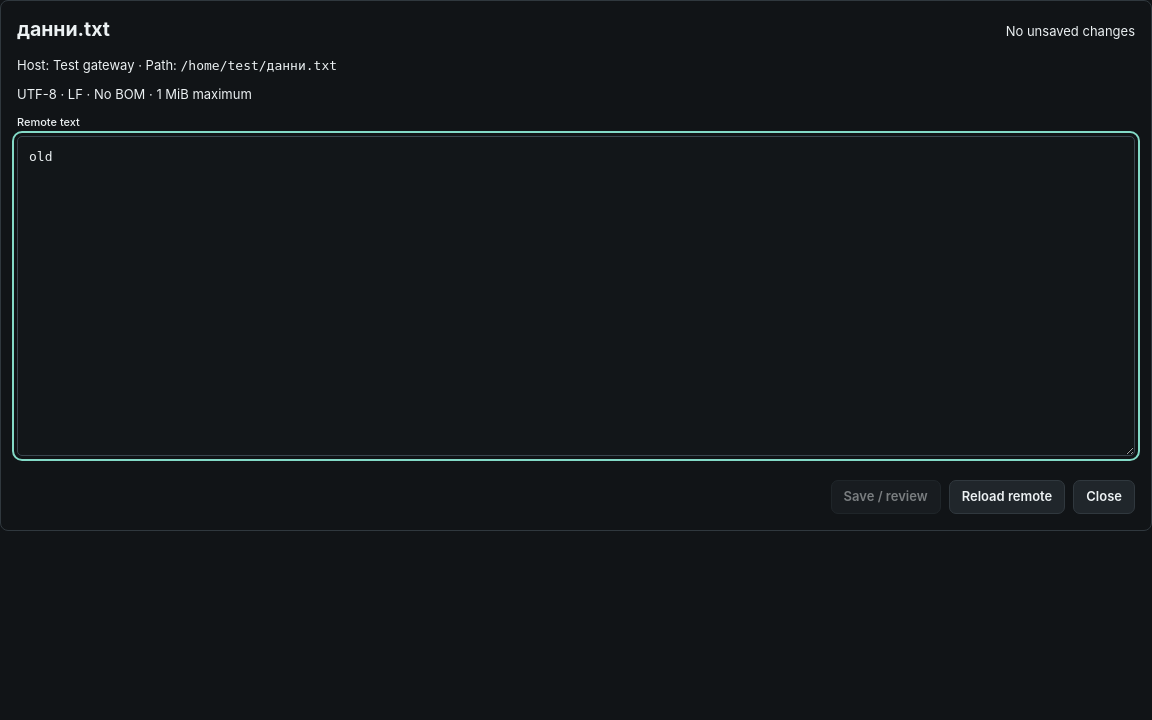
remote text editor authority and interaction › treats Escape as Cancel and blocks retry when backend discard is unconfirmed
Type "A" into the text box labelled "Remote text". click: (576, 296)
box: [17,136,1135,456]
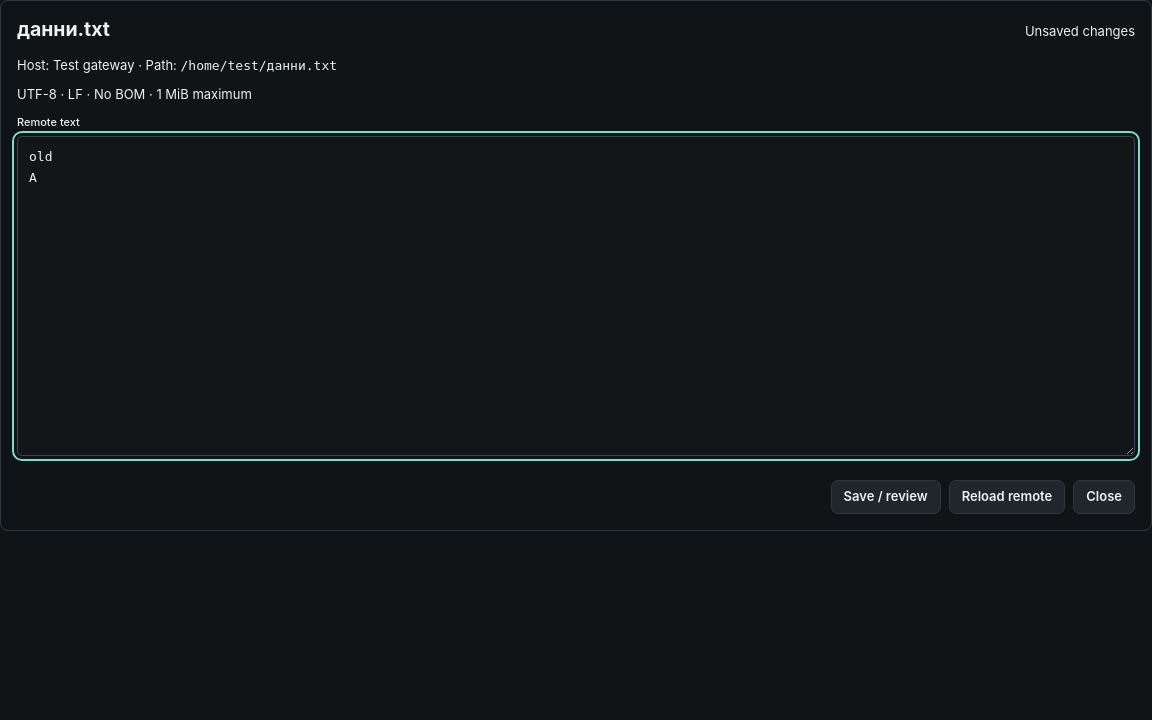
Click the button "Save / review". click: (886, 497)
box: [831,480,941,514]
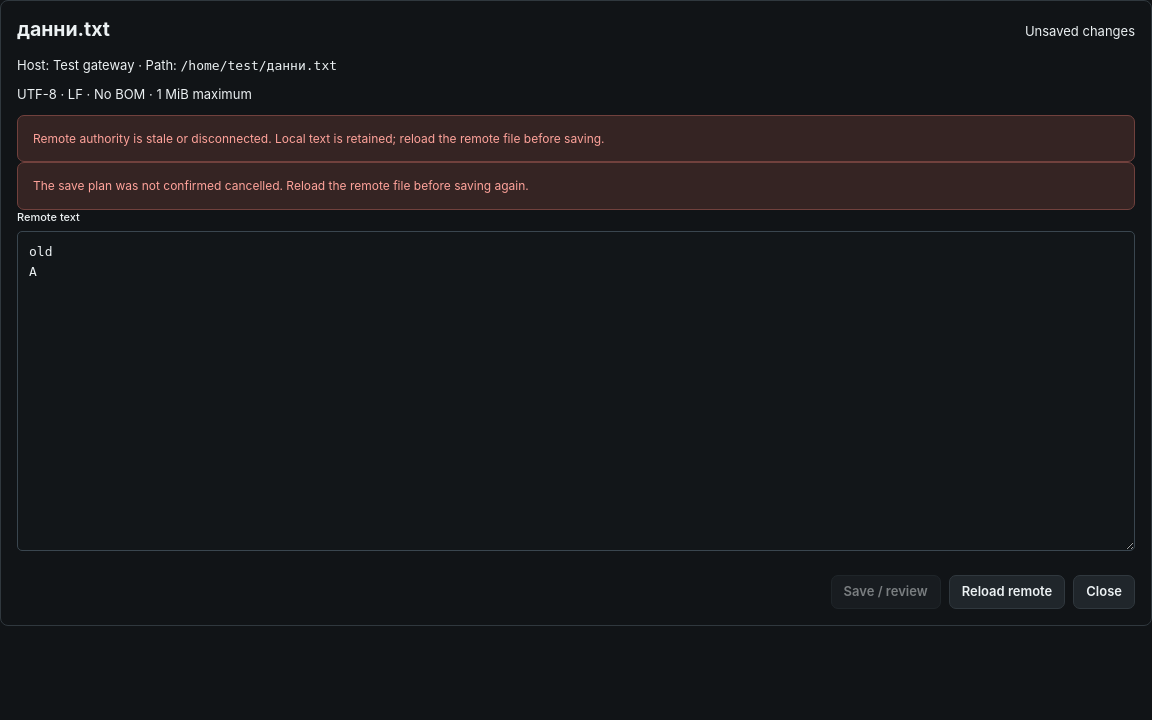
Check: the text "save plan was not confirmed cancelled" is shown, box [33,178,529,193]
Check: the button "Save / review" is disabled, box [831,574,941,608]
